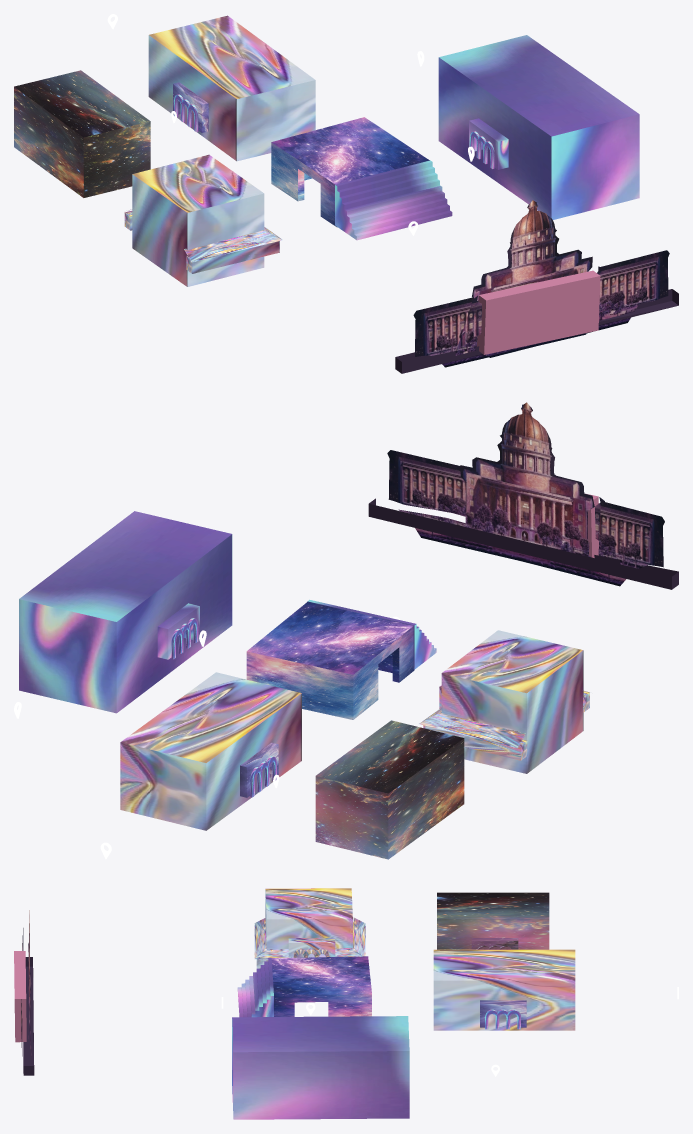
File: notscaledbutworkingmap.glb
3 views of the same model, one above another, from view 1: azimuth 30°, elevation 25°; view 2: azimuth 150°, elevation 25°; view 3: azimuth 270°, elevation 25° (orthographic). The views are drawn at different scales.
Visible parts, largest first — view 1: AB2, LHCnew, AB1, AB3, Mess, dome, Cube, Stairs, dome.002, dome.001, AB1extend.002, AB1extend.003; view 2: AB2, LHCnew, dome, AB1, AB3, Mess, dome.001, dome.002, AB1extend.002, Stairs, AB1extend.003; view 3: AB2, LHCnew, AB1, AB3, Mess, Stairs, dome, Cube, AB1extend.004, AB1extend.001, Arc.004.
Boxes of the visible parts, x1,y1,x2,y2 form: AB2: (438, 35, 639, 219); LHCnew: (148, 15, 315, 161); AB1: (124, 154, 282, 286); AB3: (14, 70, 150, 197); Mess: (271, 117, 429, 227); dome: (395, 200, 678, 373); Cube: (477, 270, 600, 354); Stairs: (335, 160, 452, 240); dome.002: (413, 295, 481, 356); dome.001: (597, 250, 669, 312); AB1extend.002: (469, 118, 508, 169); AB1extend.003: (173, 82, 208, 132); AB2: (19, 511, 232, 713); LHCnew: (120, 672, 301, 830); dome: (368, 402, 678, 589); AB1: (418, 630, 589, 773); AB3: (315, 720, 464, 859); Mess: (246, 601, 414, 719); dome.001: (387, 450, 465, 516); dome.002: (594, 497, 664, 568); AB1extend.002: (157, 603, 199, 659); Stairs: (307, 599, 436, 669); AB1extend.003: (240, 742, 278, 797); AB2: (232, 1016, 409, 1119); LHCnew: (433, 949, 575, 1030); AB1: (254, 888, 365, 968); AB3: (437, 892, 549, 949); Mess: (271, 956, 371, 1016); Stairs: (237, 957, 273, 1017); dome: (23, 910, 34, 1075); Cube: (14, 951, 26, 1042); AB1extend.004: (480, 1000, 526, 1027); AB1extend.001: (471, 938, 518, 949); Arc.004: (485, 1009, 520, 1029).
Size of the model in its own units: 389 by 126 by 640.
26 materials, 16 textured.
